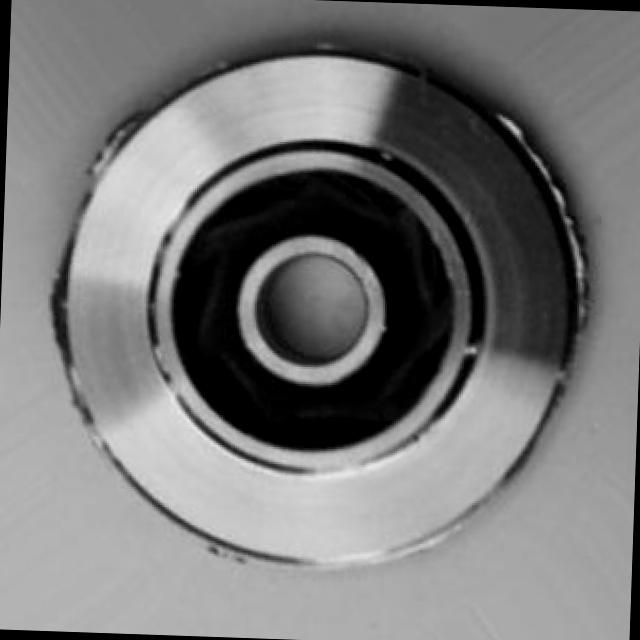Defect: (496, 113, 566, 188)
